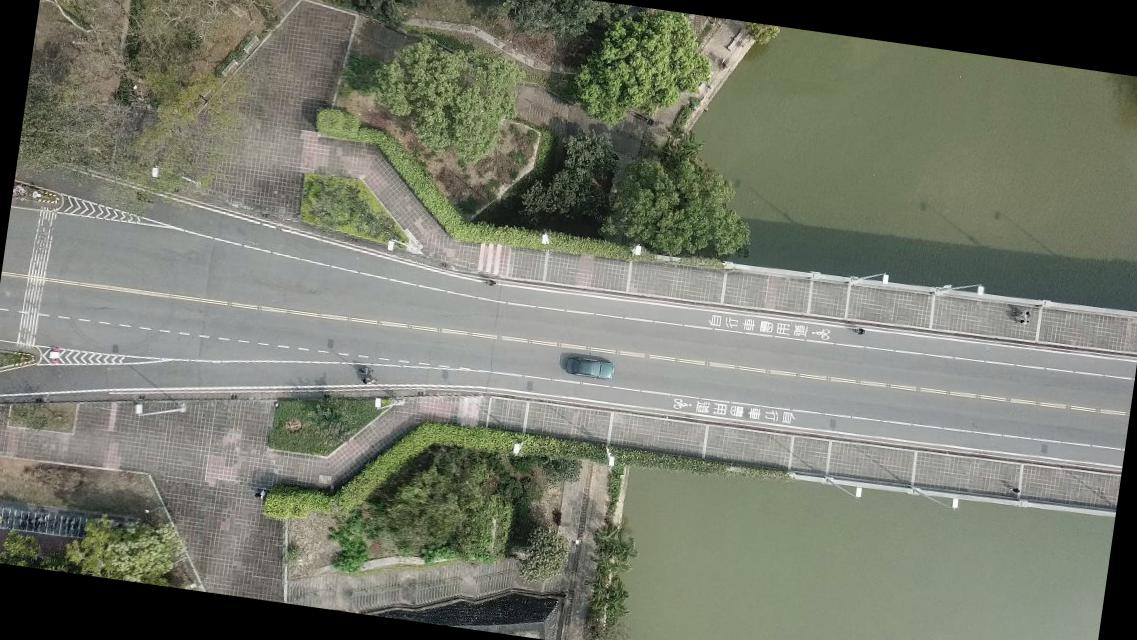vehicle: (564, 353, 616, 382)
